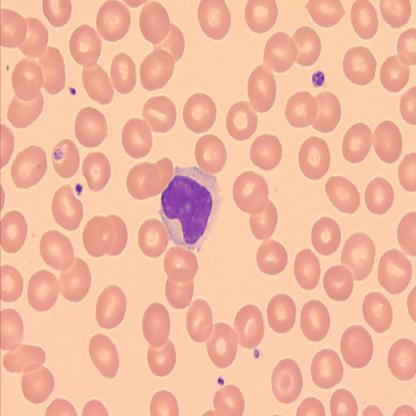Atypical lymphocyte: (159, 167, 218, 249)
